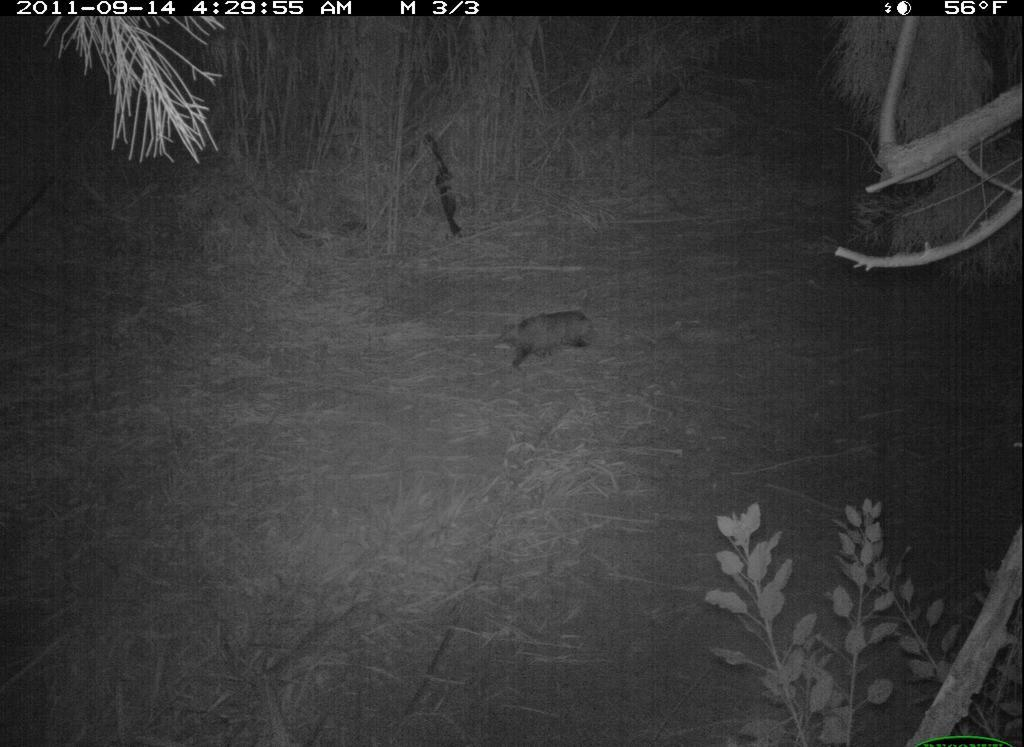opossum: (481, 305, 610, 368)
